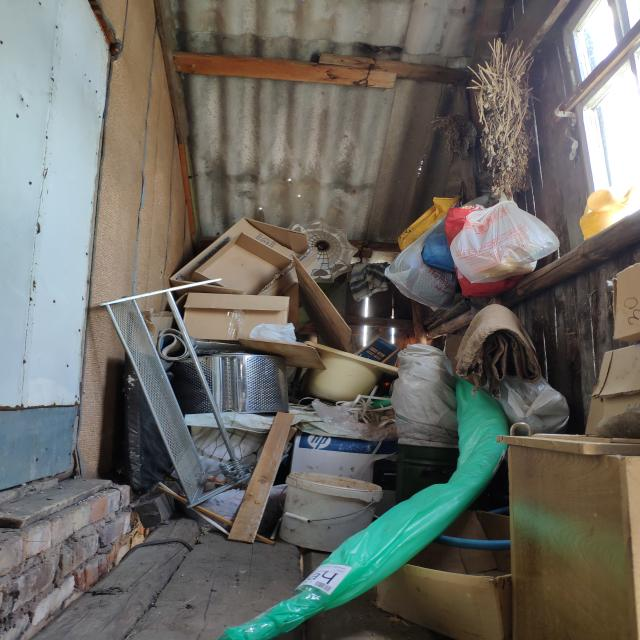entulho: (222, 503, 453, 640), (370, 182, 562, 344), (318, 478, 511, 639), (81, 297, 206, 500), (165, 212, 312, 375), (280, 416, 386, 555), (440, 299, 546, 399), (176, 344, 286, 418), (444, 392, 516, 488), (292, 261, 364, 352), (573, 347, 640, 439), (304, 337, 399, 400), (496, 378, 577, 436), (288, 219, 358, 279), (598, 264, 640, 348)
